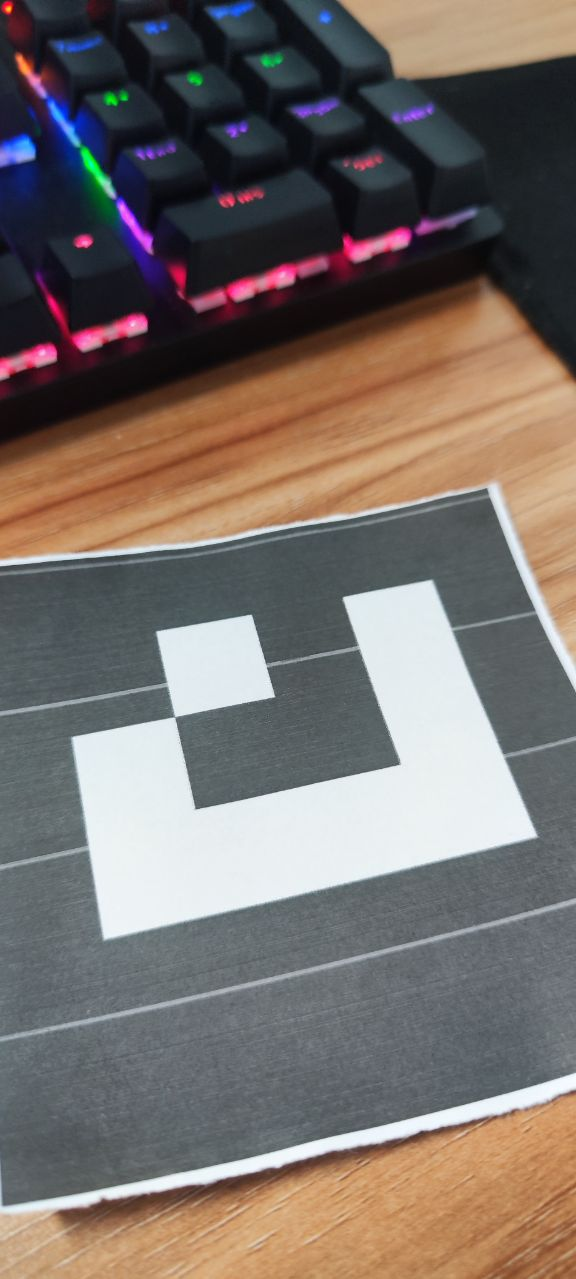mark1: (56, 572, 545, 961)
